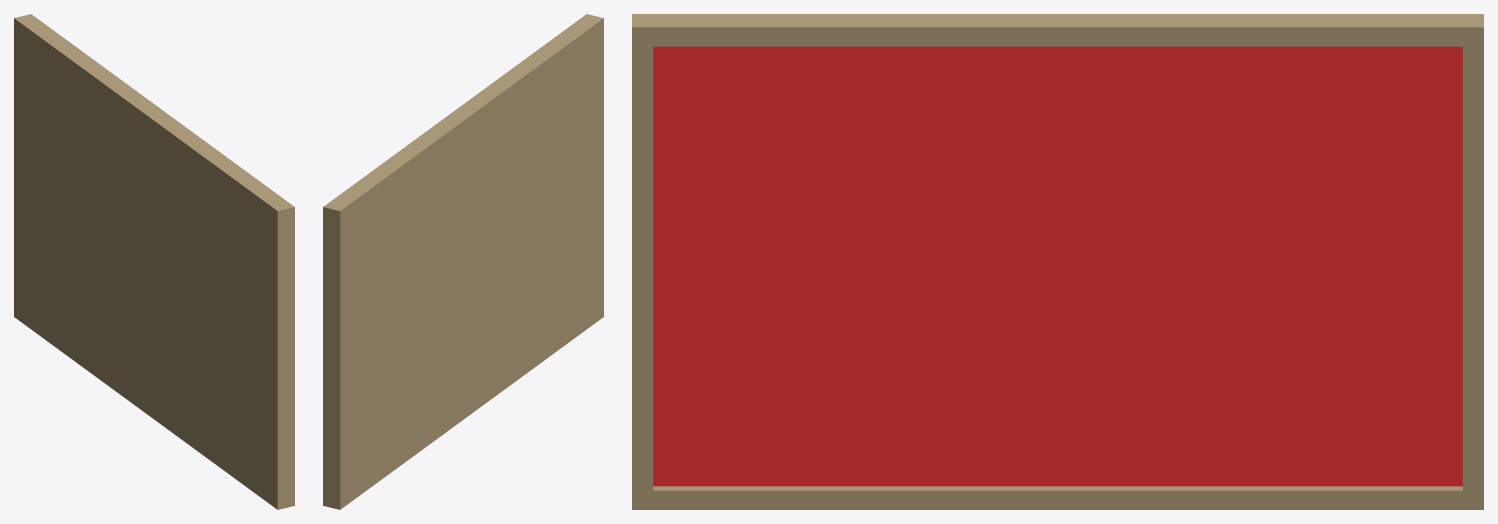
File: Corkboard.fbx
3 renders of one model, left to right at view 1: azimuth 30°, elevation 25°; view 2: azimuth 150°, elevation 25°; view 3: azimuth 270°, elevation 25°, orthographic. The views are drawn at different scales.
Parts seen in each view (by area): view 1: Box001; view 2: Box001; view 3: Box001.
Part boxes in pixels (x1,y1,x2,y2): Box001: (14,14,294,509); Box001: (323,14,603,509); Box001: (632,14,1483,509).
Size of the model in its own units: 3 by 50 by 80.
